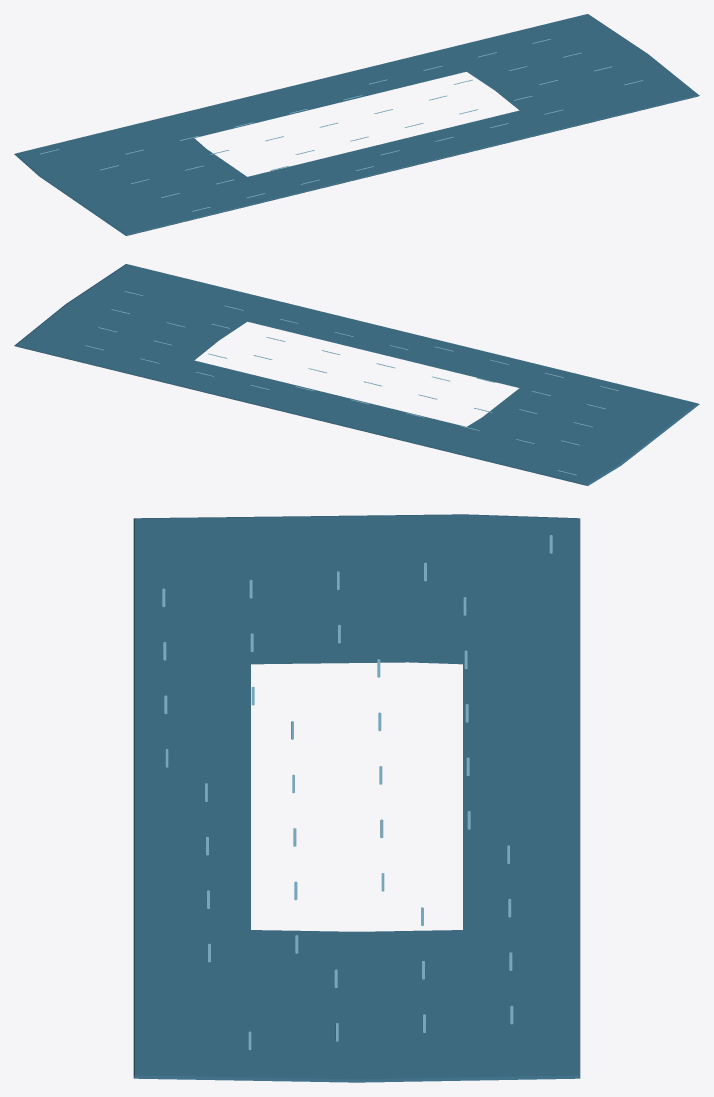
Rendered from s-water.glb.
3 renders of one model, top to bottom at view 1: azimuth 30°, elevation 25°; view 2: azimuth 150°, elevation 25°; view 3: azimuth 270°, elevation 25°, orthographic. The views are drawn at different scales.
Visible parts, largest first — view 1: p; view 2: p; view 3: p.
Boxes of the visible parts, x1,y1,x2,y2 form: p: (14, 14, 699, 235); p: (14, 264, 699, 485); p: (133, 514, 580, 1082).
Size of the model in its own units: 90 by 0.23 by 29.91.
